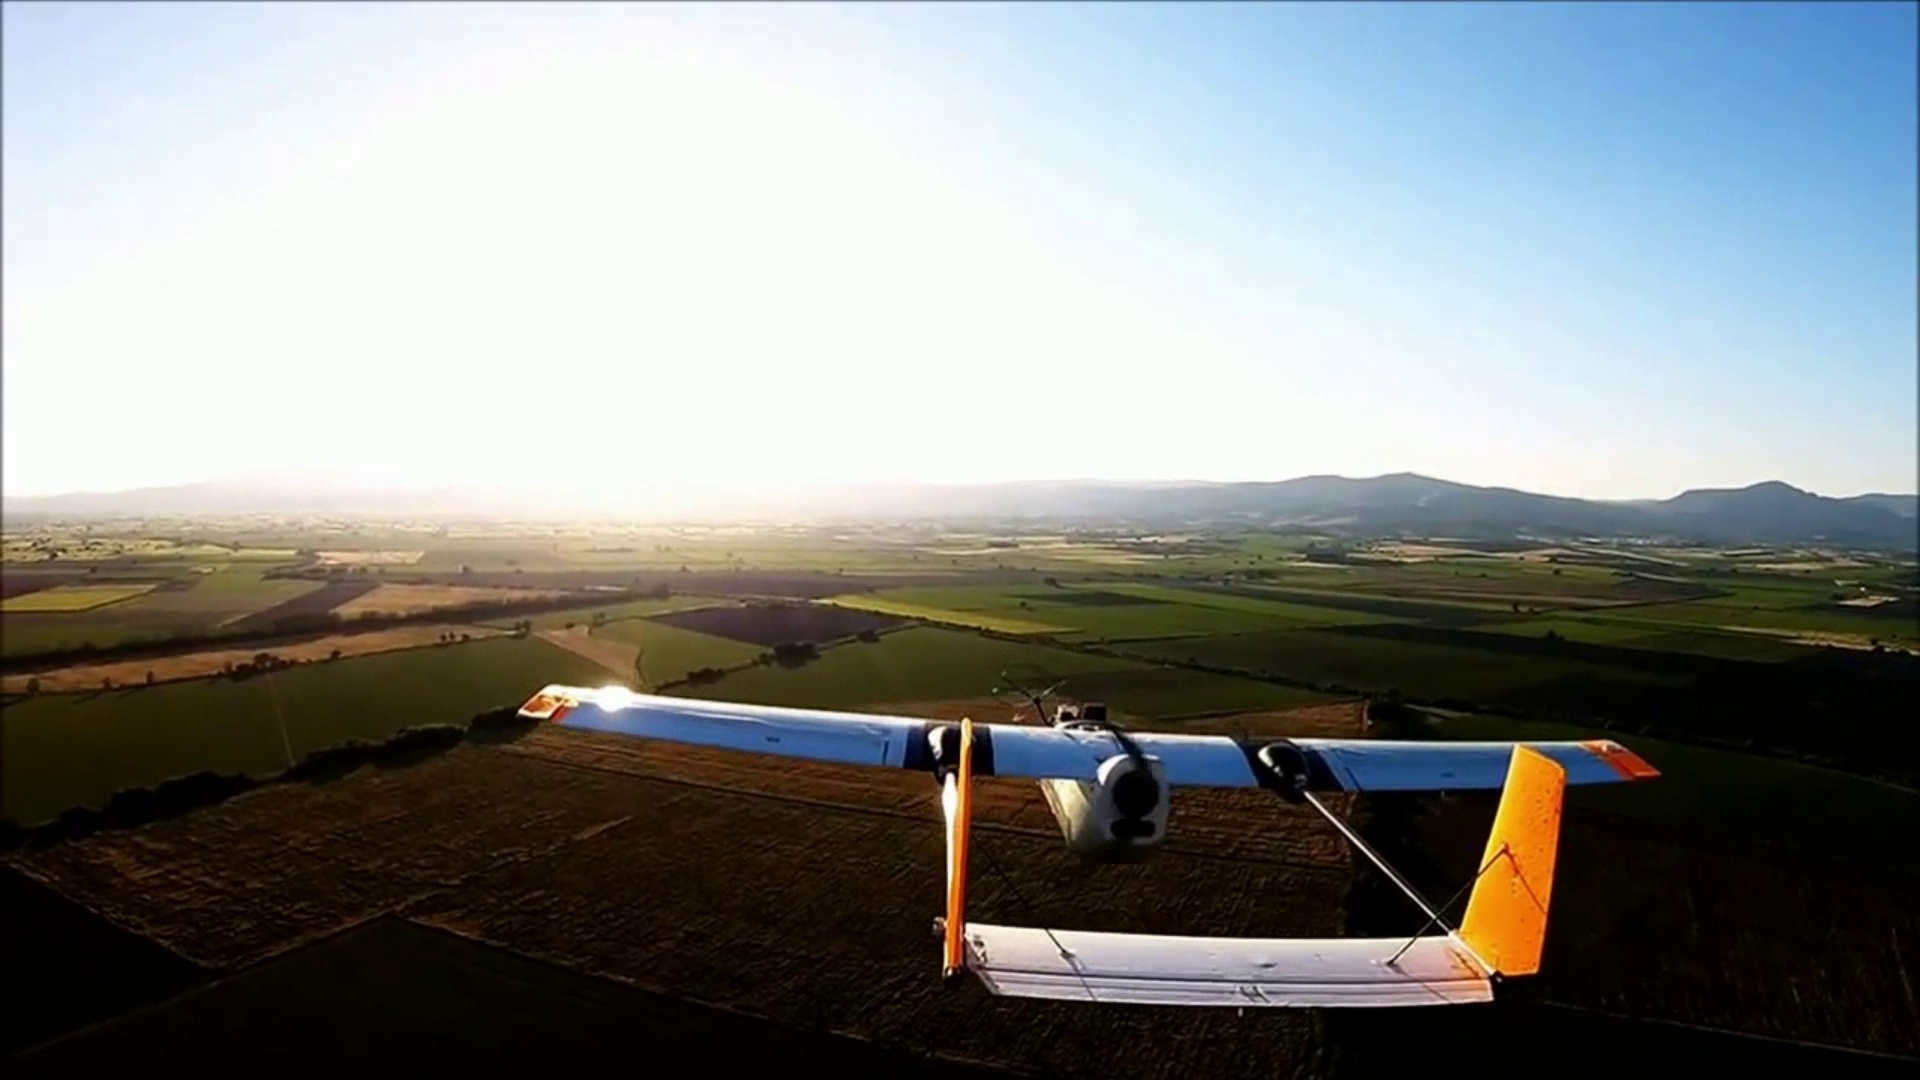airplane: (513, 686, 1654, 1011)
